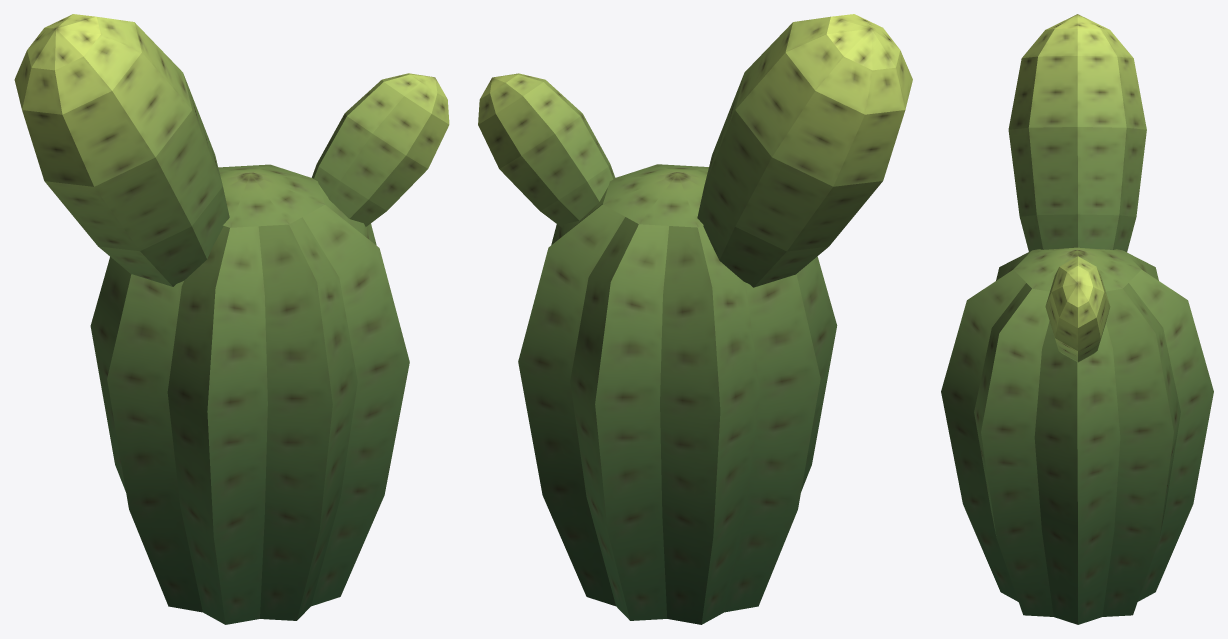
File: Cactus_04.fbx
3 renders of one model, left to right at view 1: azimuth 30°, elevation 25°; view 2: azimuth 150°, elevation 25°; view 3: azimuth 270°, elevation 25°, orthographic. The views are drawn at different scales.
Visible parts, largest first — view 1: Cactus_04; view 2: Cactus_04; view 3: Cactus_04.
Part boxes in pixels (box(x1,y1,x2,y2)): Cactus_04: box(14, 14, 449, 624); Cactus_04: box(478, 14, 912, 624); Cactus_04: box(941, 14, 1213, 624).
Bounding box in the file's own units: 1195 × 1630 × 804.
